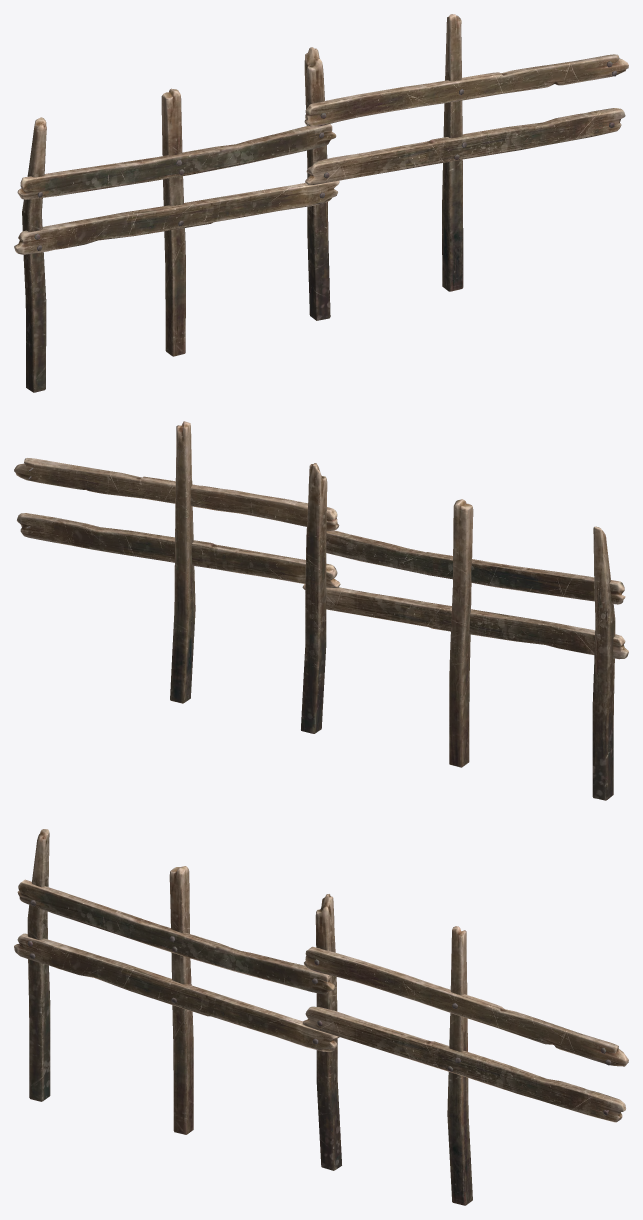
3 views of the same model, one above another, from view 1: azimuth 30°, elevation 25°; view 2: azimuth 150°, elevation 25°; view 3: azimuth 330°, elevation 25° (orthographic).
Visible parts, largest first — view 1: SM_Wooden_Fence_01v2_LOD0; view 2: SM_Wooden_Fence_01v2_LOD0; view 3: SM_Wooden_Fence_01v2_LOD0.
Boxes of the visible parts, x1,y1,x2,y2 form: SM_Wooden_Fence_01v2_LOD0: [14, 14, 628, 392]; SM_Wooden_Fence_01v2_LOD0: [14, 421, 628, 800]; SM_Wooden_Fence_01v2_LOD0: [14, 829, 628, 1205].
Size of the model in its own units: 3.9 by 1.68 by 0.1528.
Materials: 1 (1 with a texture image).
